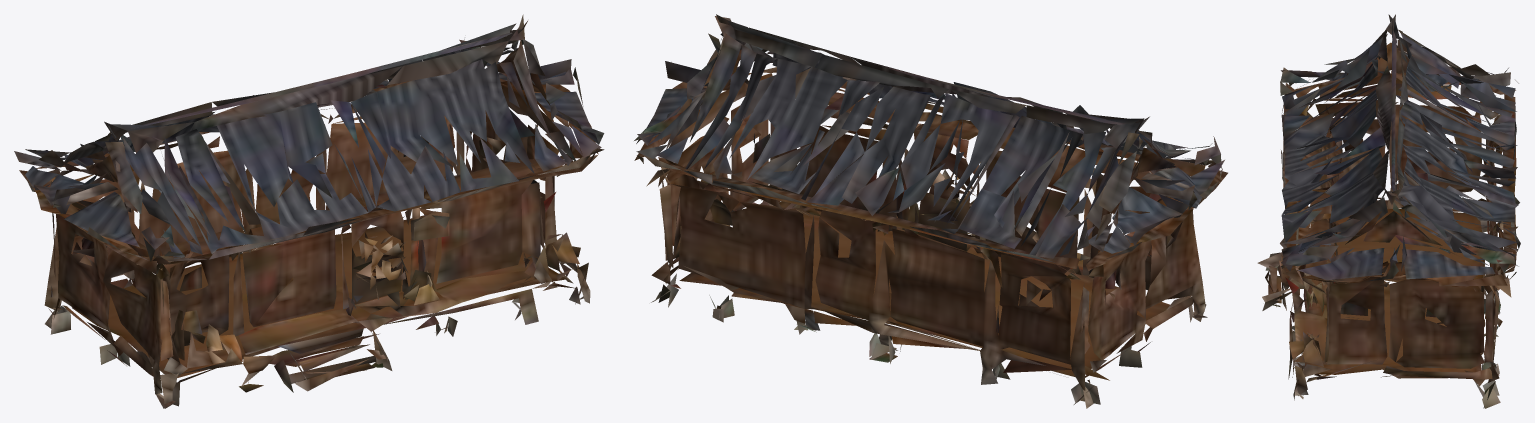
Rendered from armazem_lod2.glb.
The picture shows the model from 3 angles, left to right: view 1: azimuth 30°, elevation 25°; view 2: azimuth 150°, elevation 25°; view 3: azimuth 270°, elevation 25°; orthographic projection. The views are drawn at different scales.
Parts seen in each view (by area): view 1: armazem; view 2: armazem; view 3: armazem.
Part boxes in pixels (x1,y1,x2,y2): armazem: (14, 14, 604, 408); armazem: (634, 14, 1227, 408); armazem: (1257, 14, 1520, 408).
Size of the model in its own units: 10.79 by 4.97 by 5.48.
Materials: 1 (1 with a texture image).
